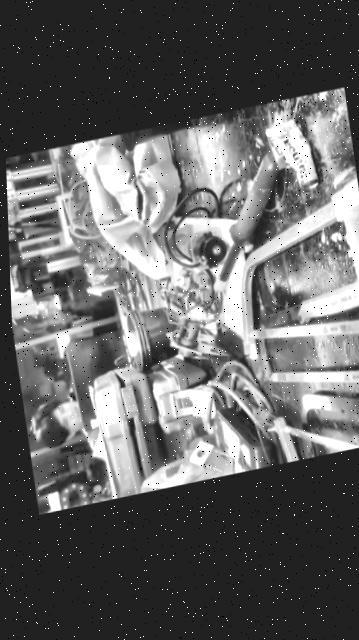pot: (119, 120, 191, 150)
